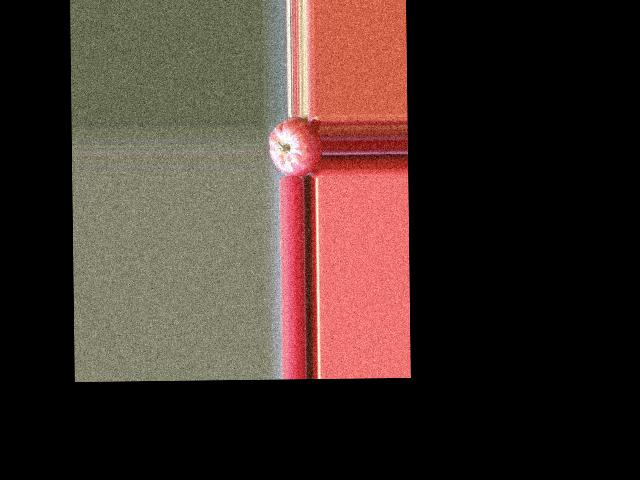tomato: (269, 115, 322, 176)
